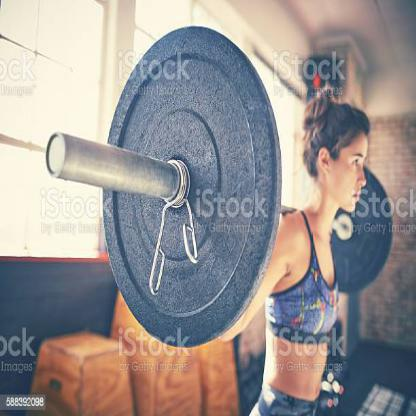Barbell: (85, 20, 285, 359)
